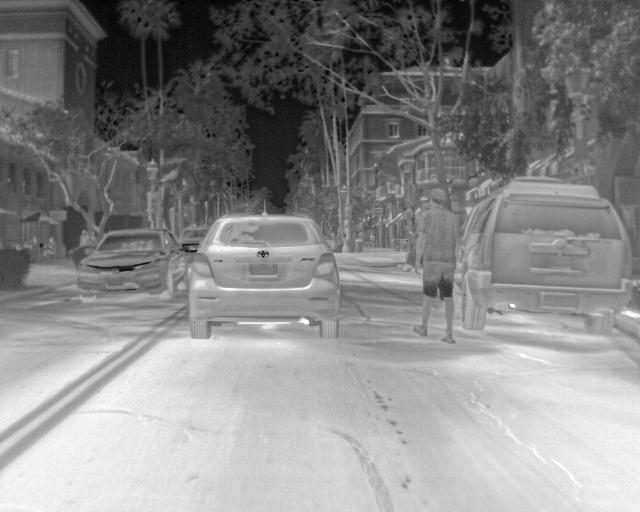bicycle: (454, 173, 631, 336), (186, 212, 343, 338), (78, 228, 189, 299), (178, 224, 209, 258)
empty: (412, 187, 457, 343), (40, 235, 56, 259)
